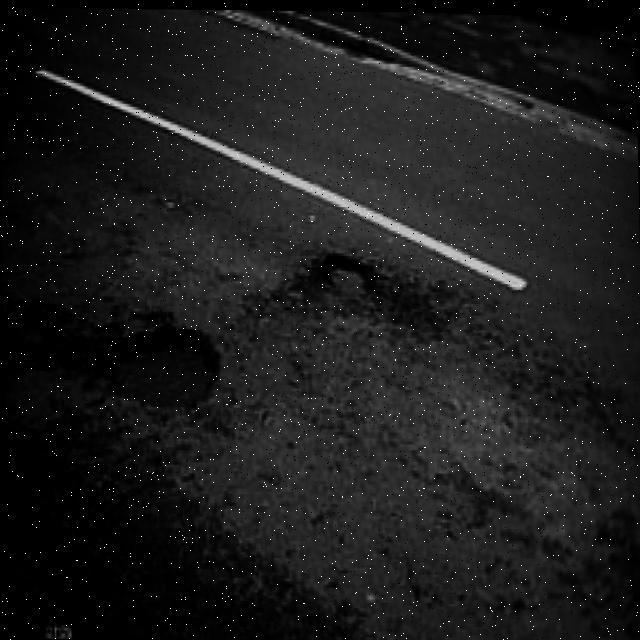pothole: (1, 289, 228, 422), (314, 246, 371, 300)
